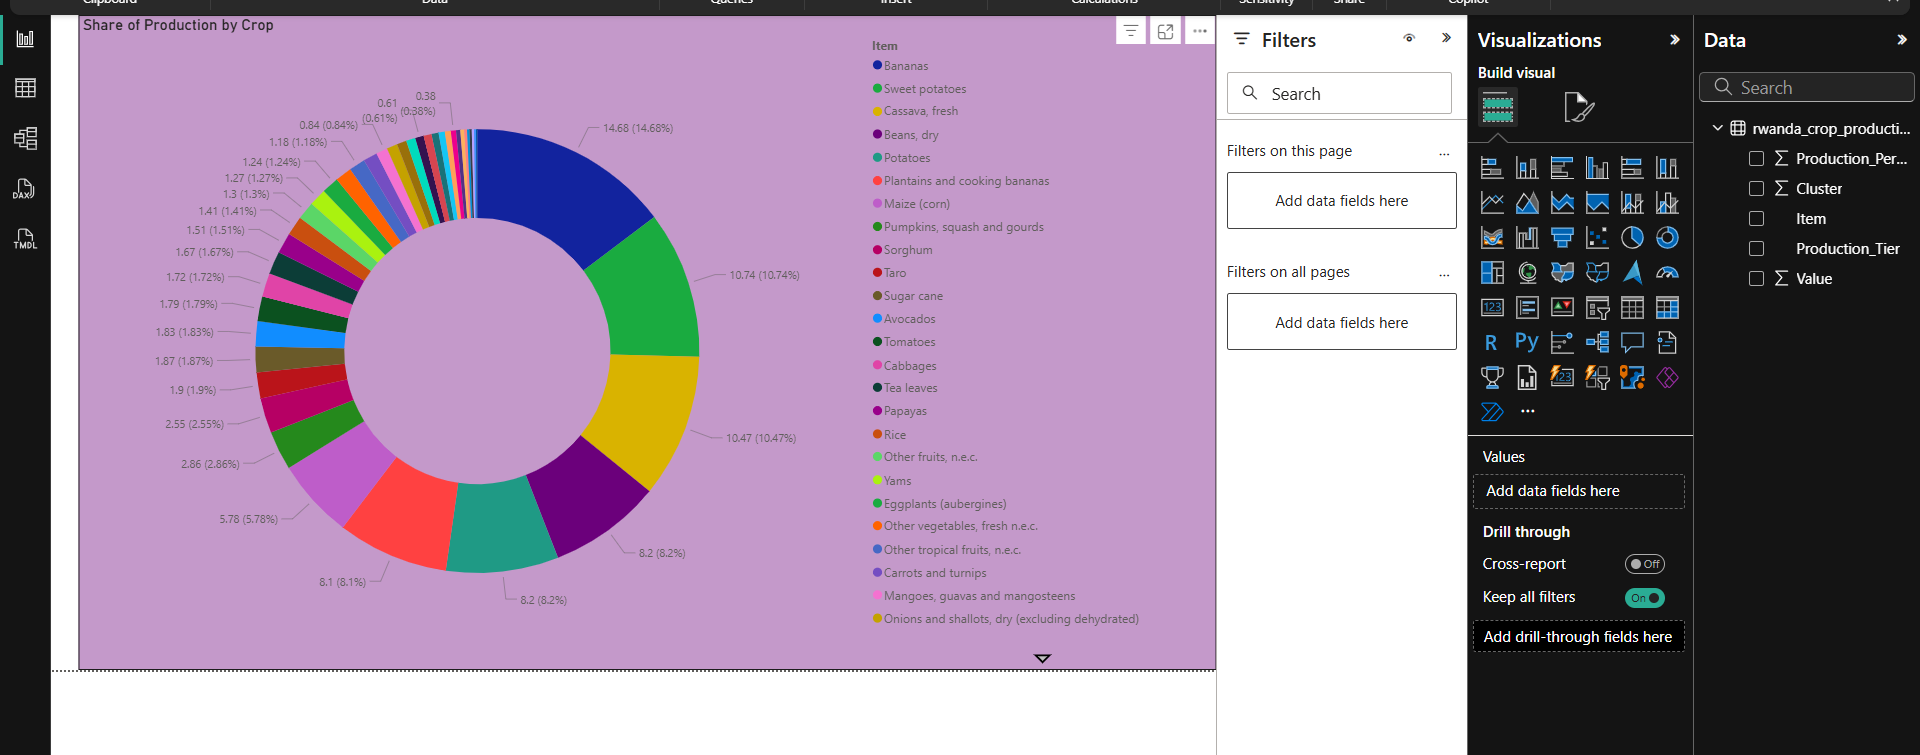

This screenshot's page, from the dashboard's own definition file:
{"tool":"powerbi","page":{"name":"Donut chart","canvas":[1280,720],"ordinal":5},"visuals":[{"type":"donutChart","title":"Share of Production by Crop","fields":{"Category":["rwanda_crop_production_trends.Item"],"Y":["Sum(rwanda_crop_production_trends. Production_Percent)"]},"box":[30.2,0,1250.1,719.8],"z":0}]}

Visuals, with their boxes on the page's 1280x720 design canvas (x1, y1, x2, y2). These are canvas units, not pixel positions in the 1920x755 screenshot, which may show the page scaled, cropped or inside an application window:
"Share of Production by Crop" donutChart: 30,0,1280,720
